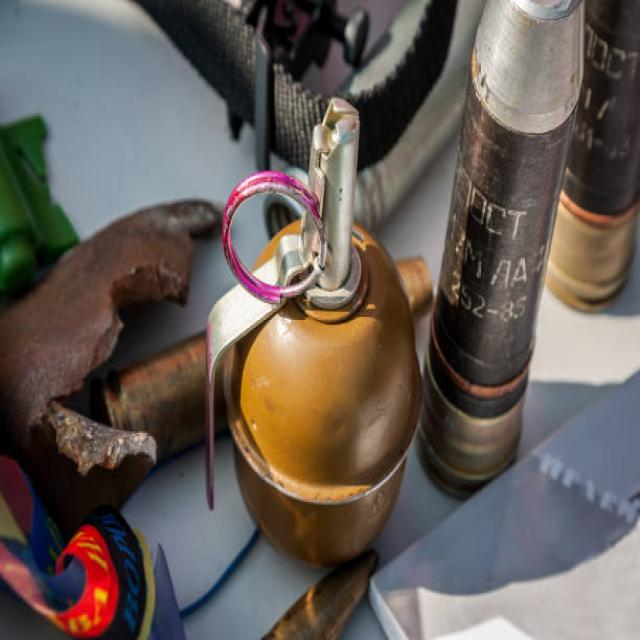grenade: (190, 92, 430, 571)
